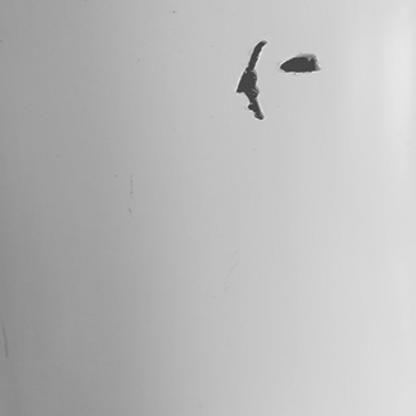kongdong: (234, 39, 267, 123), (278, 53, 320, 75)
